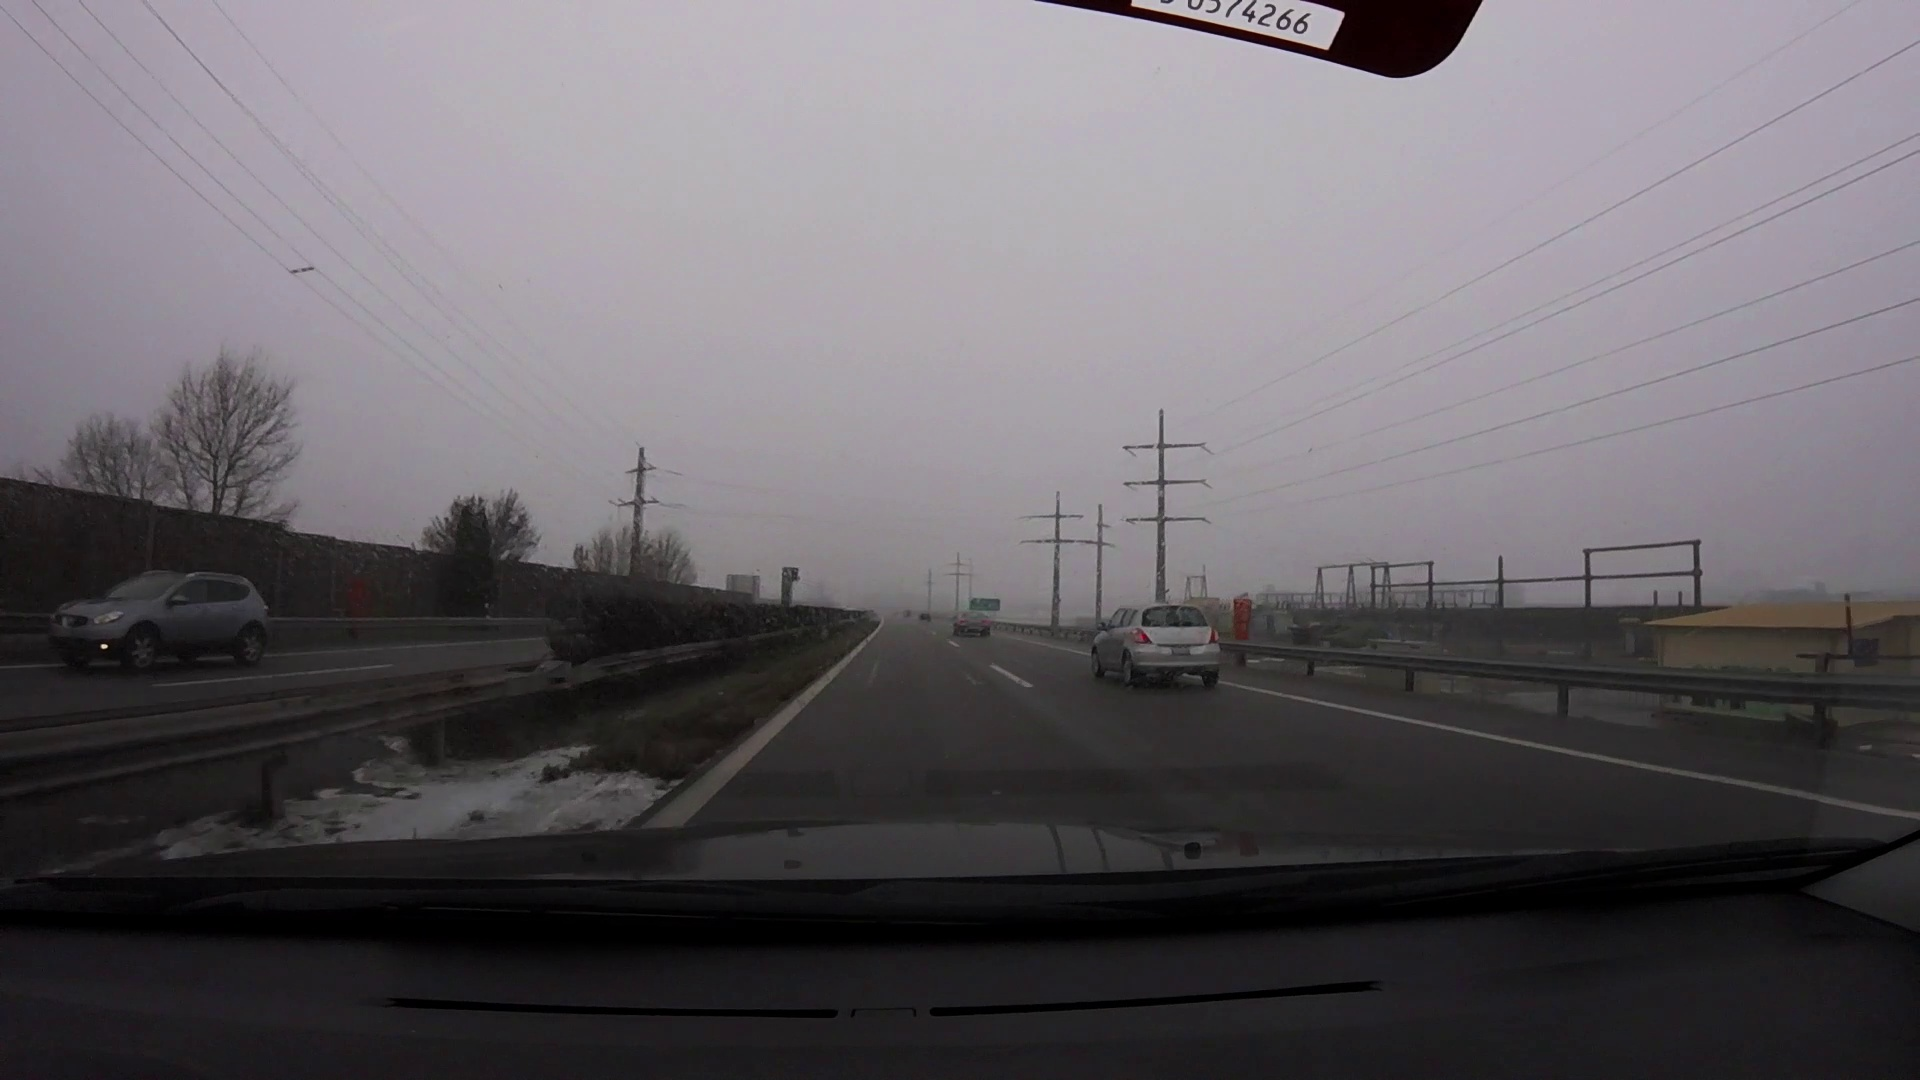radar: (781, 564, 803, 604)
